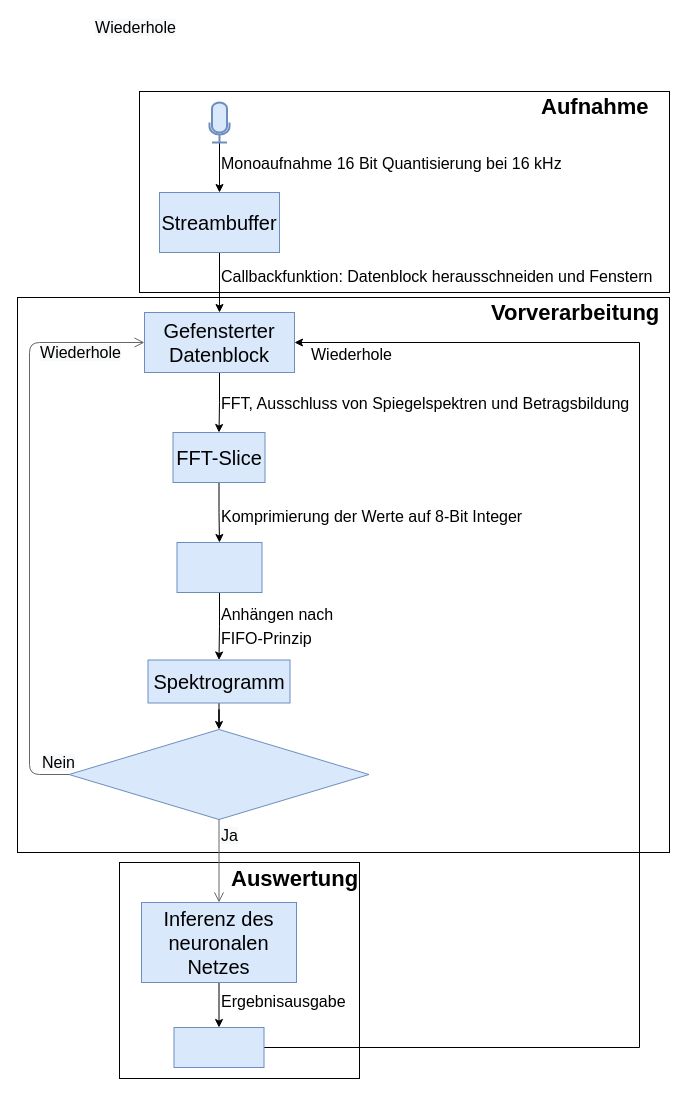
This 687x1096 diagram has some shape labels left out. Each missing label, with the centre of its shape:
"Konsole" belongs at pixel 218 1047.
"Pixel-Slice" belongs at pixel 219 567.
"Spektrogramm vollständig?" belongs at pixel 218 774.
